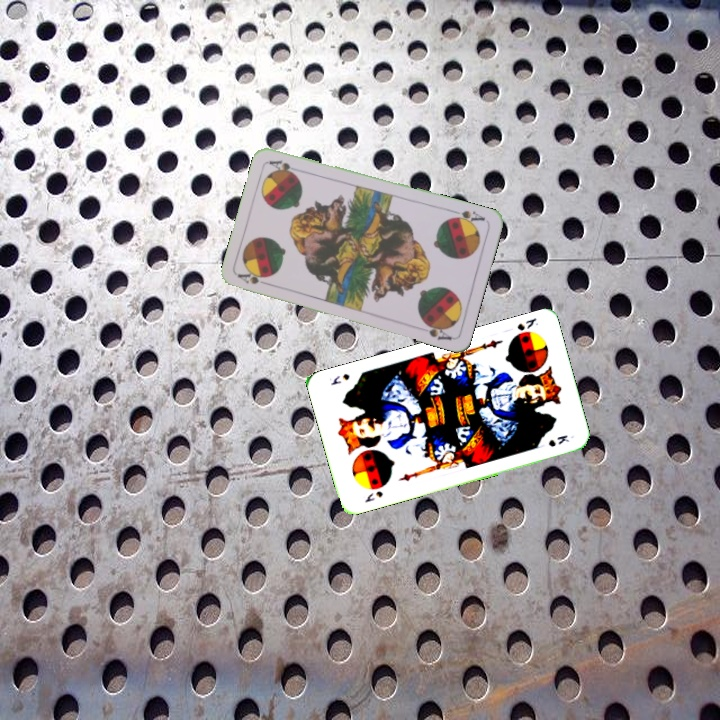SA: (447, 206, 487, 227), (234, 269, 274, 289)
SK: (513, 314, 541, 333), (361, 487, 386, 505)
